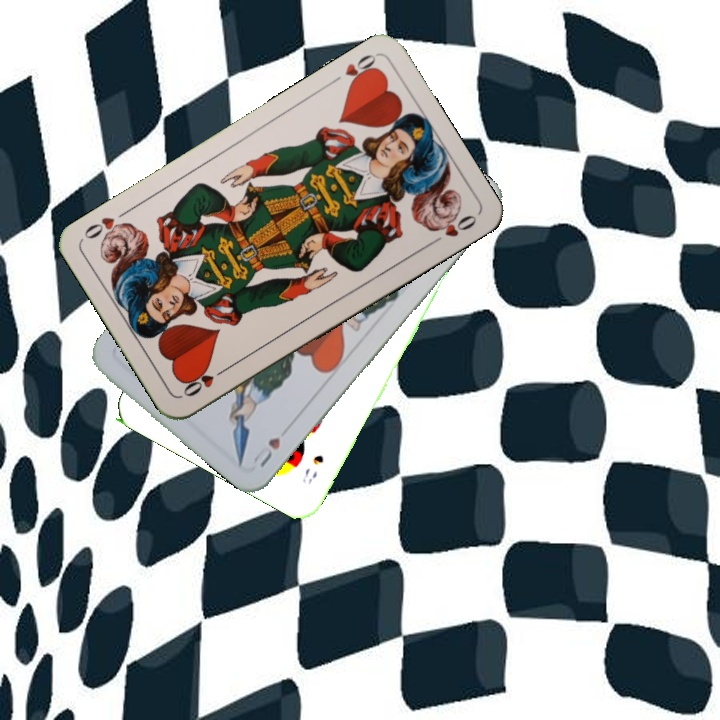HO: (179, 362, 231, 400), (340, 49, 382, 90)
HU: (249, 433, 283, 470)
S8: (298, 450, 327, 487)
